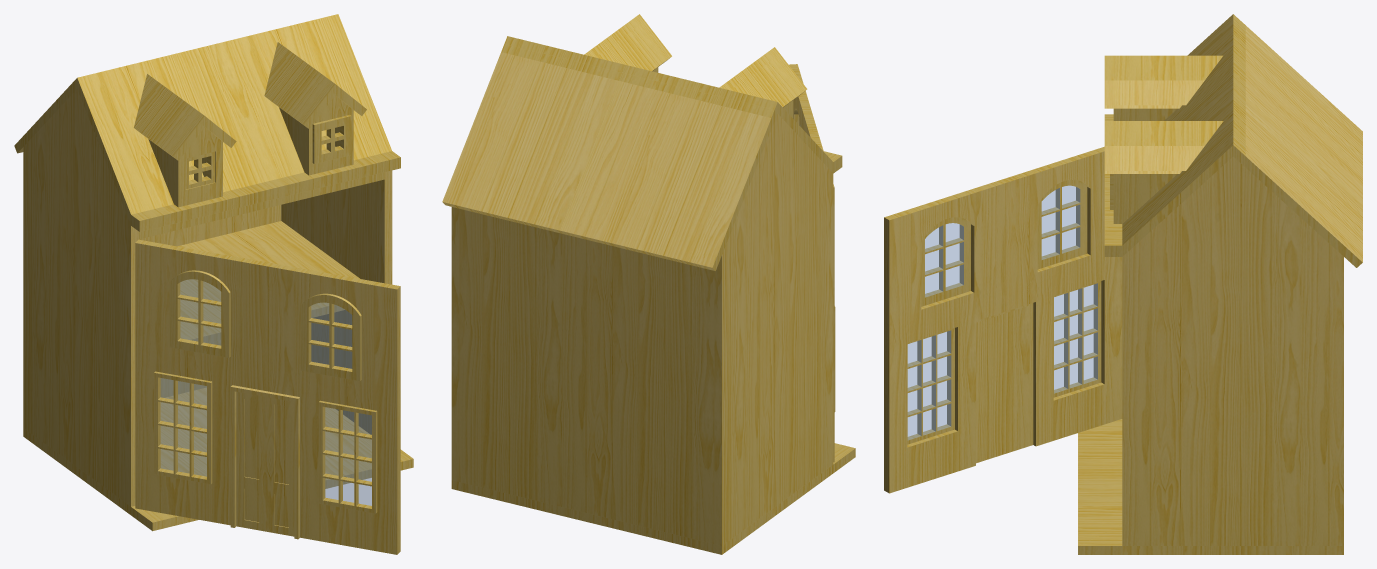
3 views of the same model, side by side, from view 1: azimuth 30°, elevation 25°; view 2: azimuth 150°, elevation 25°; view 3: azimuth 270°, elevation 25° (orthographic). The views are drawn at different scales.
Visible parts, largest first — view 1: 78584, 78733, 78740, 78583, 78736, 78734, 78735, 78582, 78581, 78741, 78580, 78579 (+13 smaller); view 2: 78737, 78739, 78733, 78734, 78740, 78736, 78759, 78755, 78584, 78760, 78756; view 3: 78736, 78584, 78739, 78583, 78740, 78734, 78760, 78756, 78581, 78582, 78580, 78579 (+3 smaller).
Boxes of the visible parts, left/top/right/bottom form: 78584: left=135, top=239, right=400, bottom=554; 78733: left=23, top=89, right=138, bottom=506; 78740: left=74, top=14, right=391, bottom=224; 78583: left=230, top=385, right=299, bottom=539; 78736: left=281, top=170, right=392, bottom=434; 78734: left=23, top=387, right=413, bottom=531; 78735: left=177, top=221, right=359, bottom=343; 78582: left=318, top=400, right=377, bottom=513; 78581: left=154, top=371, right=212, bottom=484; 78741: left=131, top=151, right=400, bottom=231; 78580: left=169, top=270, right=230, bottom=357; 78579: left=300, top=293, right=361, bottom=381; 78737: left=459, top=209, right=714, bottom=543; 78739: left=442, top=44, right=777, bottom=270; 78733: left=714, top=114, right=833, bottom=545; 78734: left=451, top=443, right=855, bottom=554; 78740: left=504, top=36, right=833, bottom=172; 78736: left=451, top=207, right=459, bottom=481; 78759: left=731, top=54, right=807, bottom=107; 78755: left=595, top=21, right=671, bottom=71; 78584: left=789, top=64, right=834, bottom=462; 78760: left=719, top=47, right=779, bottom=90; 78756: left=584, top=14, right=644, bottom=57; 78736: left=1122, top=156, right=1343, bottom=545; 78584: left=884, top=146, right=1122, bottom=493; 78739: left=1233, top=20, right=1362, bottom=267; 78583: left=976, top=303, right=1033, bottom=463; 78740: left=1122, top=14, right=1239, bottom=256; 78734: left=1078, top=419, right=1343, bottom=554; 78760: left=1104, top=55, right=1222, bottom=108; 78756: left=1104, top=121, right=1223, bottom=173; 78581: left=1053, top=281, right=1101, bottom=397; 78582: left=907, top=328, right=954, bottom=444; 78580: left=1037, top=179, right=1087, bottom=269; 78579: left=921, top=217, right=970, bottom=306.
Size of the model in its own units: 0.35 by 0.5101 by 0.5401.
Materials: 559 (523 with a texture image).
